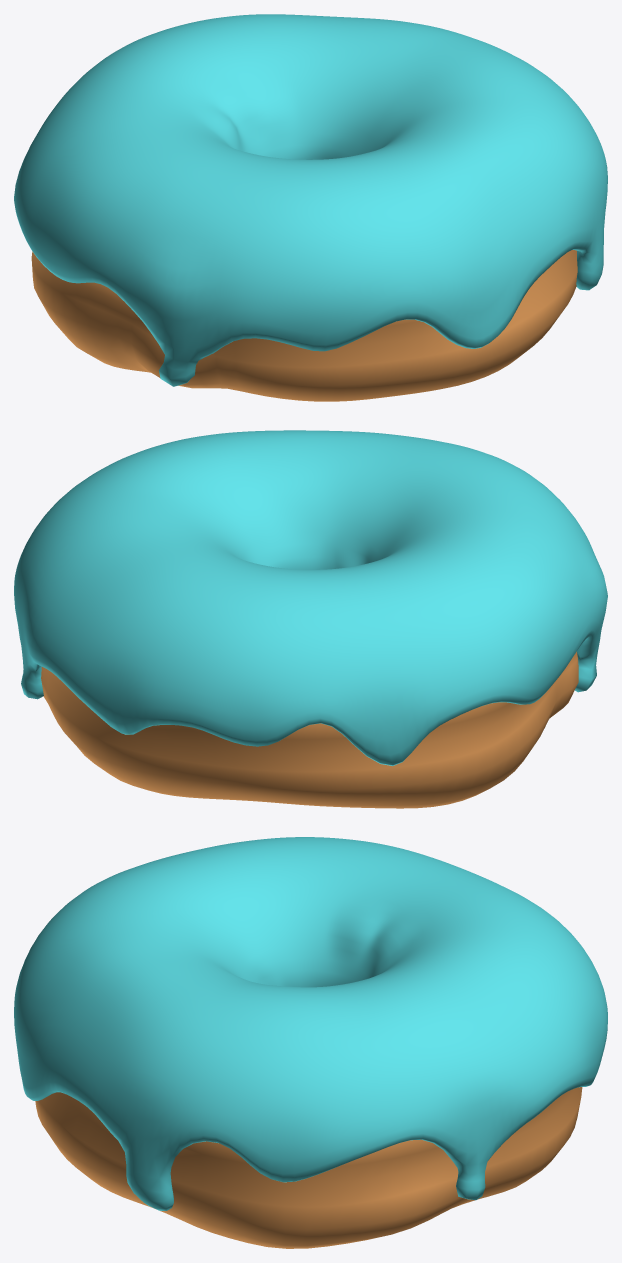
The model's file is donut.glb.
The picture shows the model from 3 angles, top to bottom: view 1: azimuth 30°, elevation 25°; view 2: azimuth 150°, elevation 25°; view 3: azimuth 270°, elevation 25°; orthographic projection.
Visible parts, largest first — view 1: Icing, Donut; view 2: Icing, Donut; view 3: Icing, Donut.
Boxes of the visible parts, x1,y1,x2,y2 form: Icing: (14, 14, 607, 386); Donut: (31, 250, 577, 401); Icing: (14, 430, 607, 765); Donut: (41, 651, 578, 808); Icing: (14, 837, 607, 1210); Donut: (35, 1087, 582, 1248).
Size of what is drawn, in the model's own units: 0.1022 by 0.044 by 0.1014.
